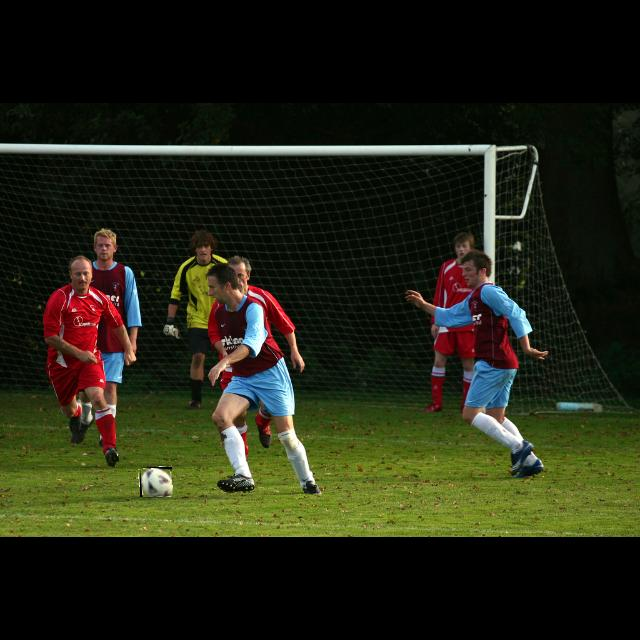Football: (140, 467, 172, 497)
